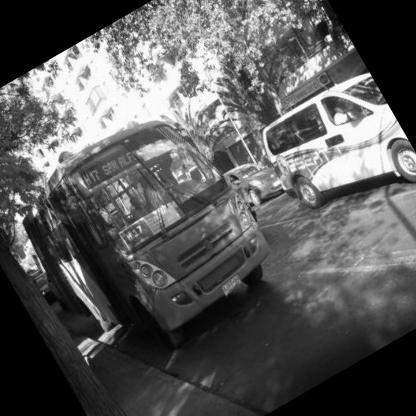bus: (1, 67, 302, 388)
car: (243, 59, 416, 255), (223, 146, 289, 215)
